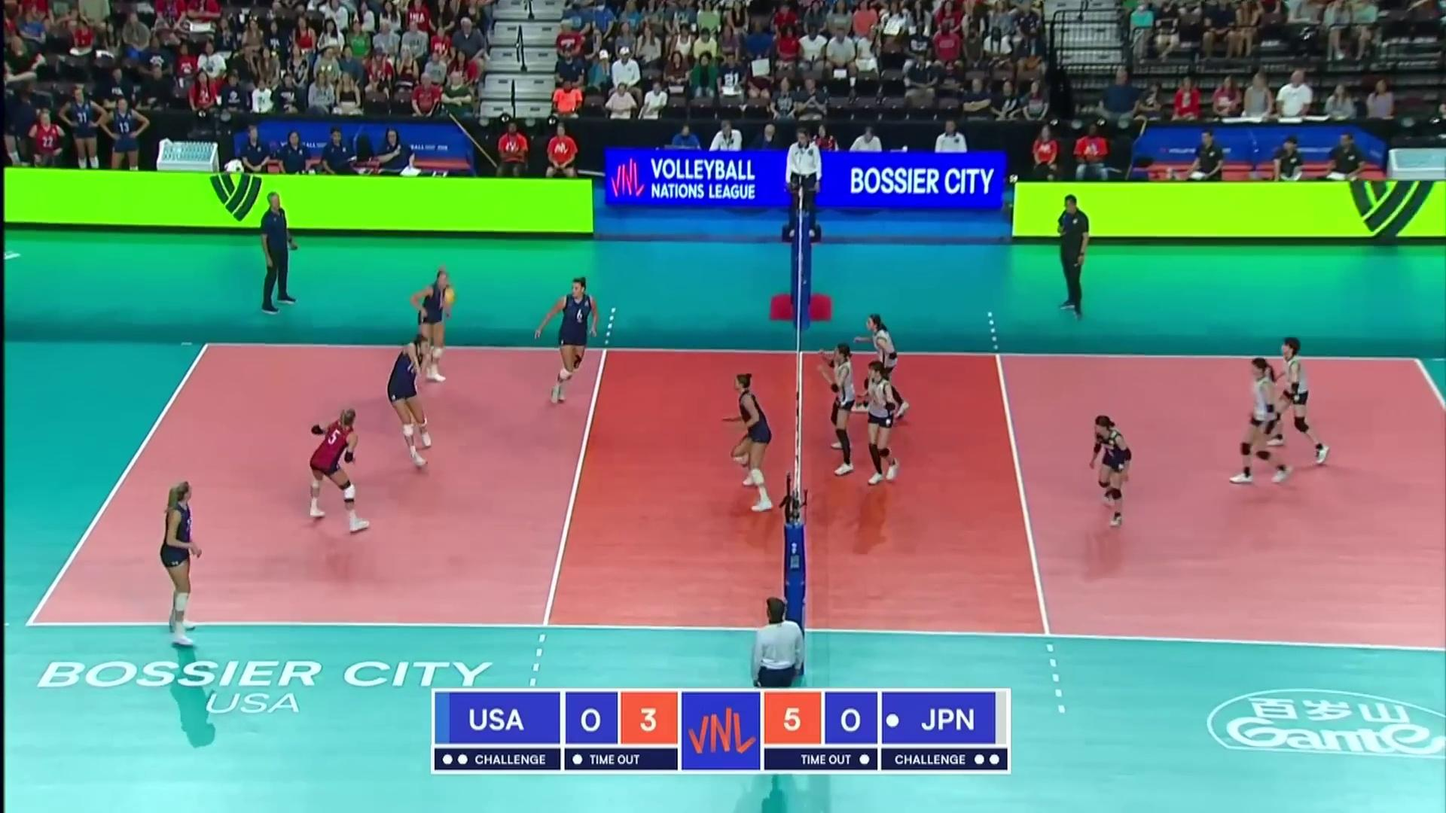player: (534, 275, 603, 411), (1261, 335, 1331, 464), (304, 408, 370, 531), (1229, 357, 1290, 481), (160, 481, 201, 648), (725, 376, 776, 509), (859, 358, 910, 489), (814, 342, 862, 477), (389, 332, 434, 471), (412, 266, 460, 388), (1088, 416, 1138, 529), (858, 314, 908, 422)
refree: (752, 600, 806, 739), (784, 130, 823, 235)
